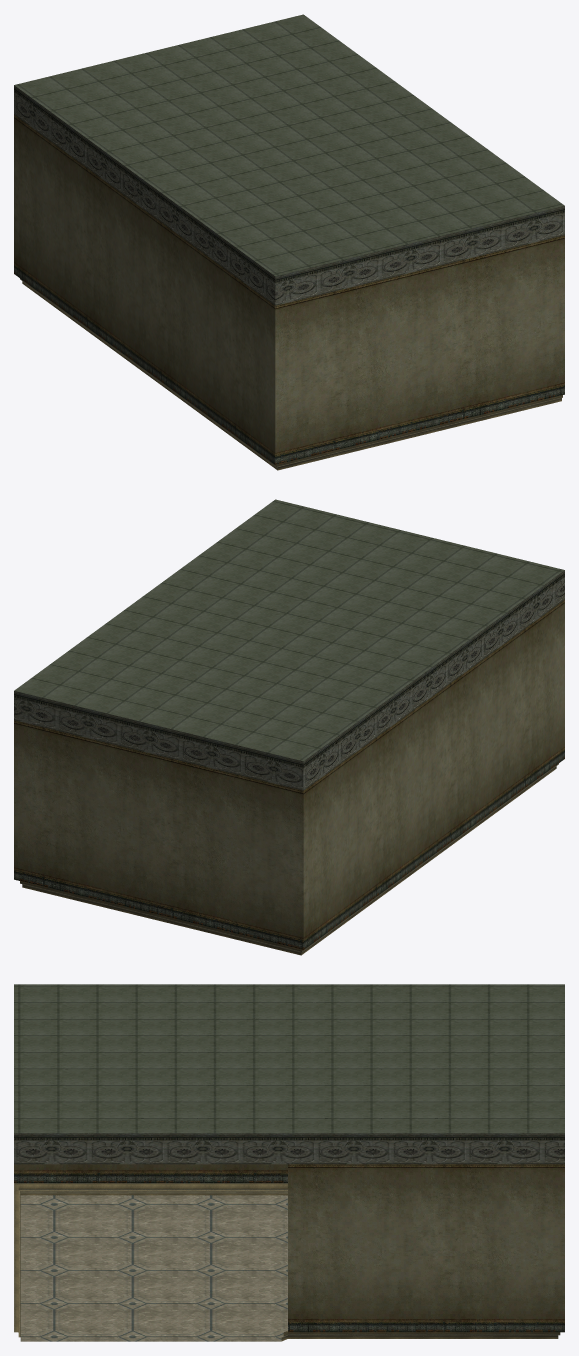
Rendered from mun_corl_guild_theater_s01_r9_greenroom_mesh_r9.fbx.
3 renders of one model, top to bottom at view 1: azimuth 30°, elevation 25°; view 2: azimuth 150°, elevation 25°; view 3: azimuth 270°, elevation 25°, orthographic. The views are drawn at different scales.
Visible parts, largest first — view 1: mesh_node; view 2: mesh_node; view 3: mesh_node.
Boxes of the visible parts, x1,y1,x2,y2 form: mesh_node: (14,14,564,470); mesh_node: (14,499,564,955); mesh_node: (14,984,564,1341).
Bounding box in the file's own units: 9 × 5.87 × 14.07.
